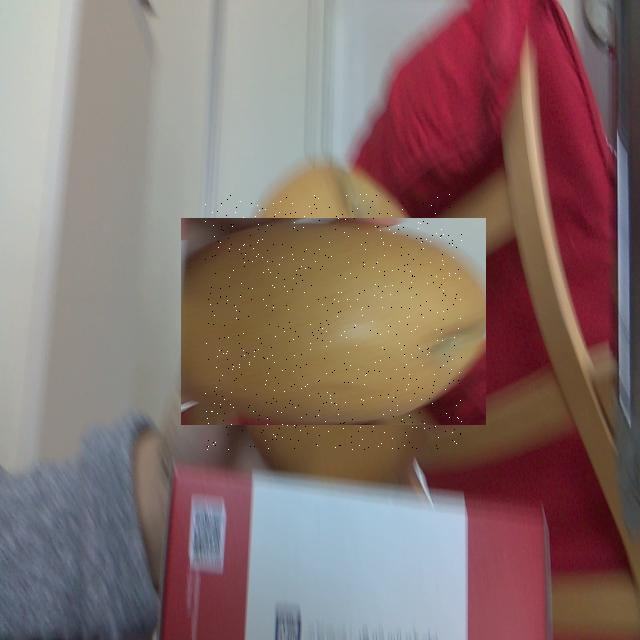pear: (205, 194, 462, 450)
